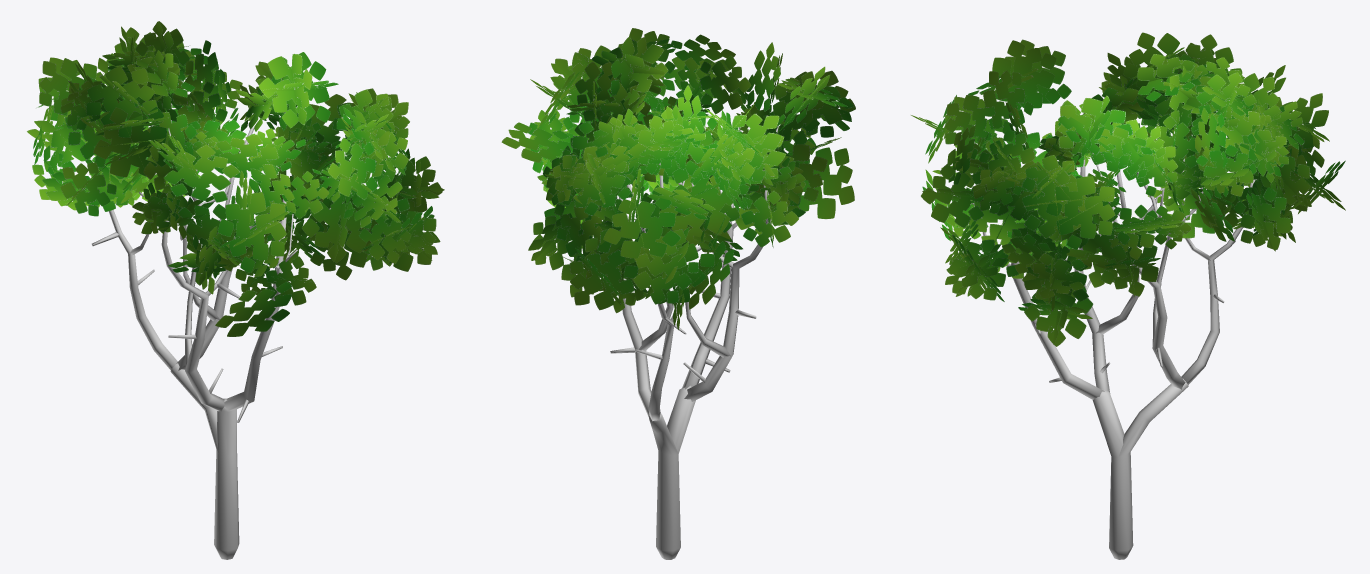
The model's file is model_tree_04c.fbx.
3 views of the same model, side by side, from view 1: azimuth 30°, elevation 25°; view 2: azimuth 150°, elevation 25°; view 3: azimuth 270°, elevation 25° (orthographic). The views are drawn at different scales.
Parts seen in each view (by area): view 1: TSP_Tree_04C_Crown, TSP_Tree_04C; view 2: TSP_Tree_04C_Crown, TSP_Tree_04C; view 3: TSP_Tree_04C_Crown, TSP_Tree_04C.
Boxes of the visible parts, x1,y1,x2,y2 form: TSP_Tree_04C_Crown: (27,21,444,336); TSP_Tree_04C: (92,103,297,559); TSP_Tree_04C_Crown: (501,28,855,329); TSP_Tree_04C: (610,125,778,559); TSP_Tree_04C_Crown: (911,32,1345,346); TSP_Tree_04C: (952,153,1255,559).
Size of the model in its own units: 7.72 by 11.19 by 9.11.
